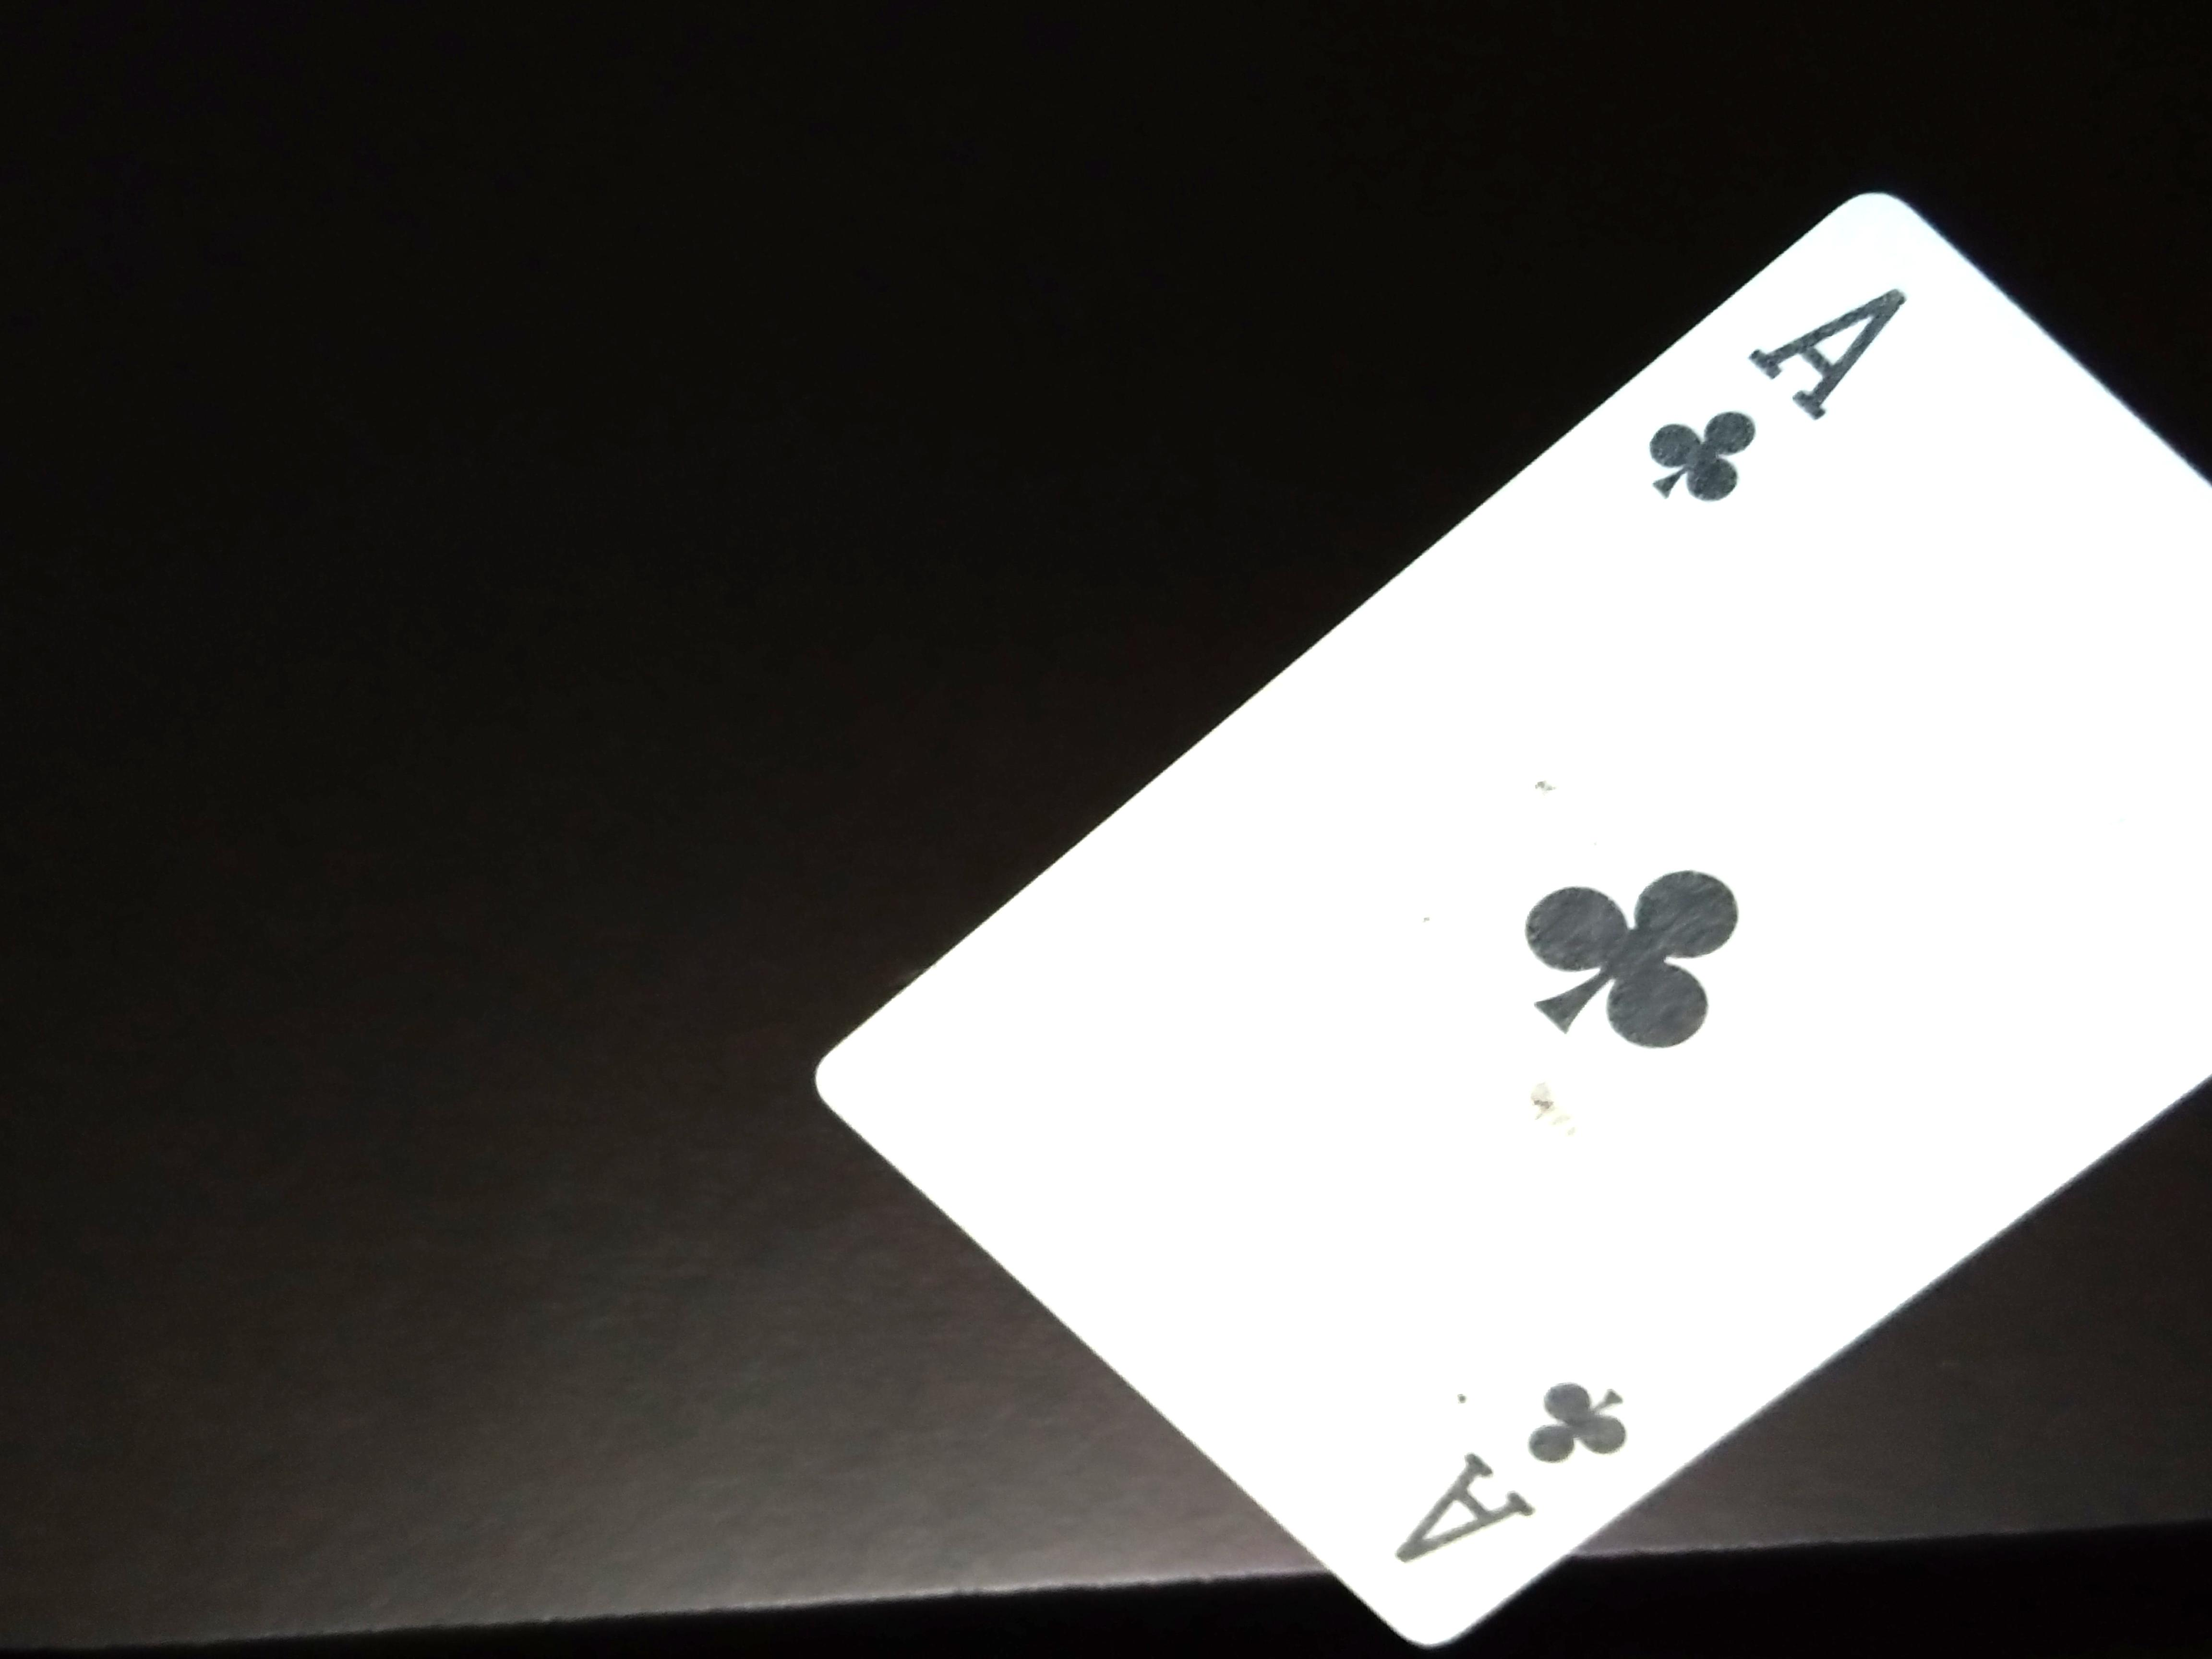AC: (1620, 260, 1918, 535)
